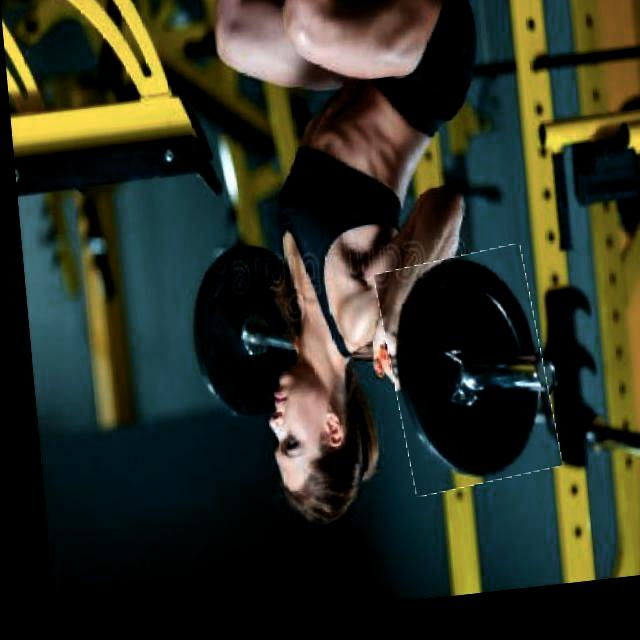barbell: (374, 257, 549, 504)
